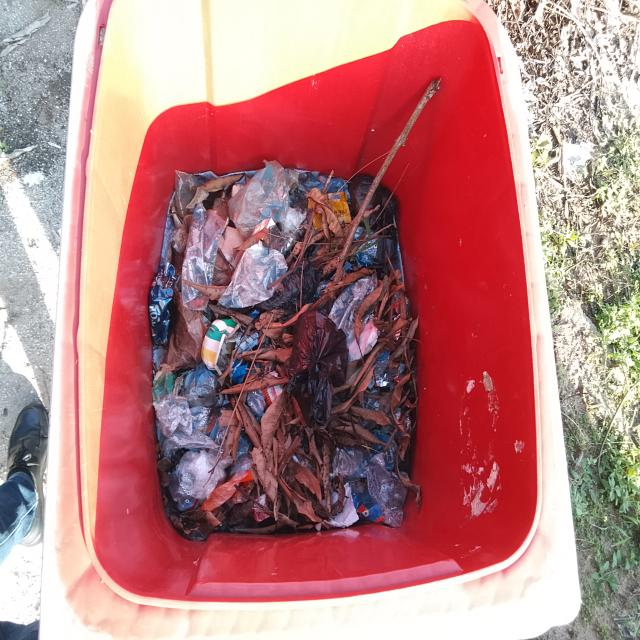half-full: (50, 23, 541, 598)
